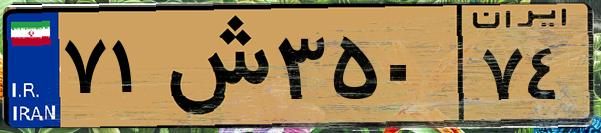0: (385, 28, 445, 110)
1: (110, 28, 158, 98)
3: (270, 28, 330, 110)
4: (525, 38, 570, 115)
5: (330, 28, 385, 110)
7: (57, 26, 110, 100), (475, 38, 525, 113)
ش: (158, 12, 270, 120)
